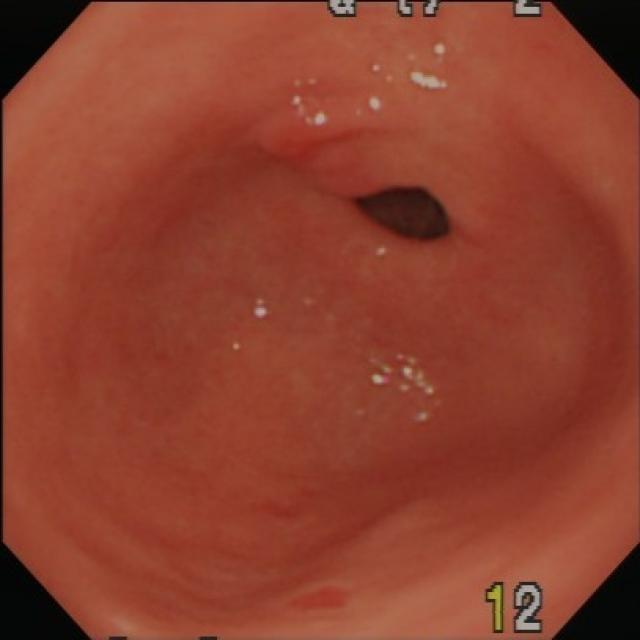E: (336, 167, 468, 263)
S: (485, 581, 547, 636), (325, 3, 545, 18)
U: (367, 350, 443, 424), (407, 40, 449, 90), (292, 76, 328, 128), (251, 297, 271, 321), (367, 93, 385, 114)
